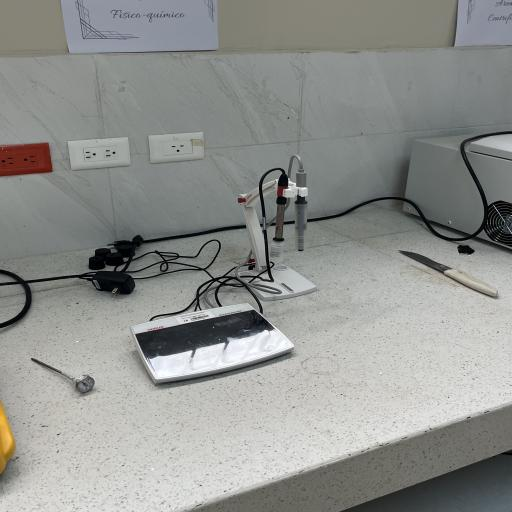Phmetro_Ohaus: (122, 297, 306, 392)
